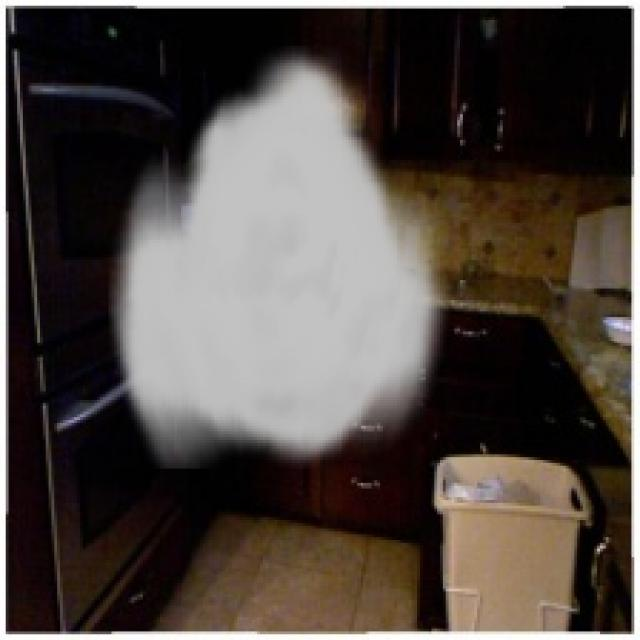smoke: (109, 46, 454, 468)
